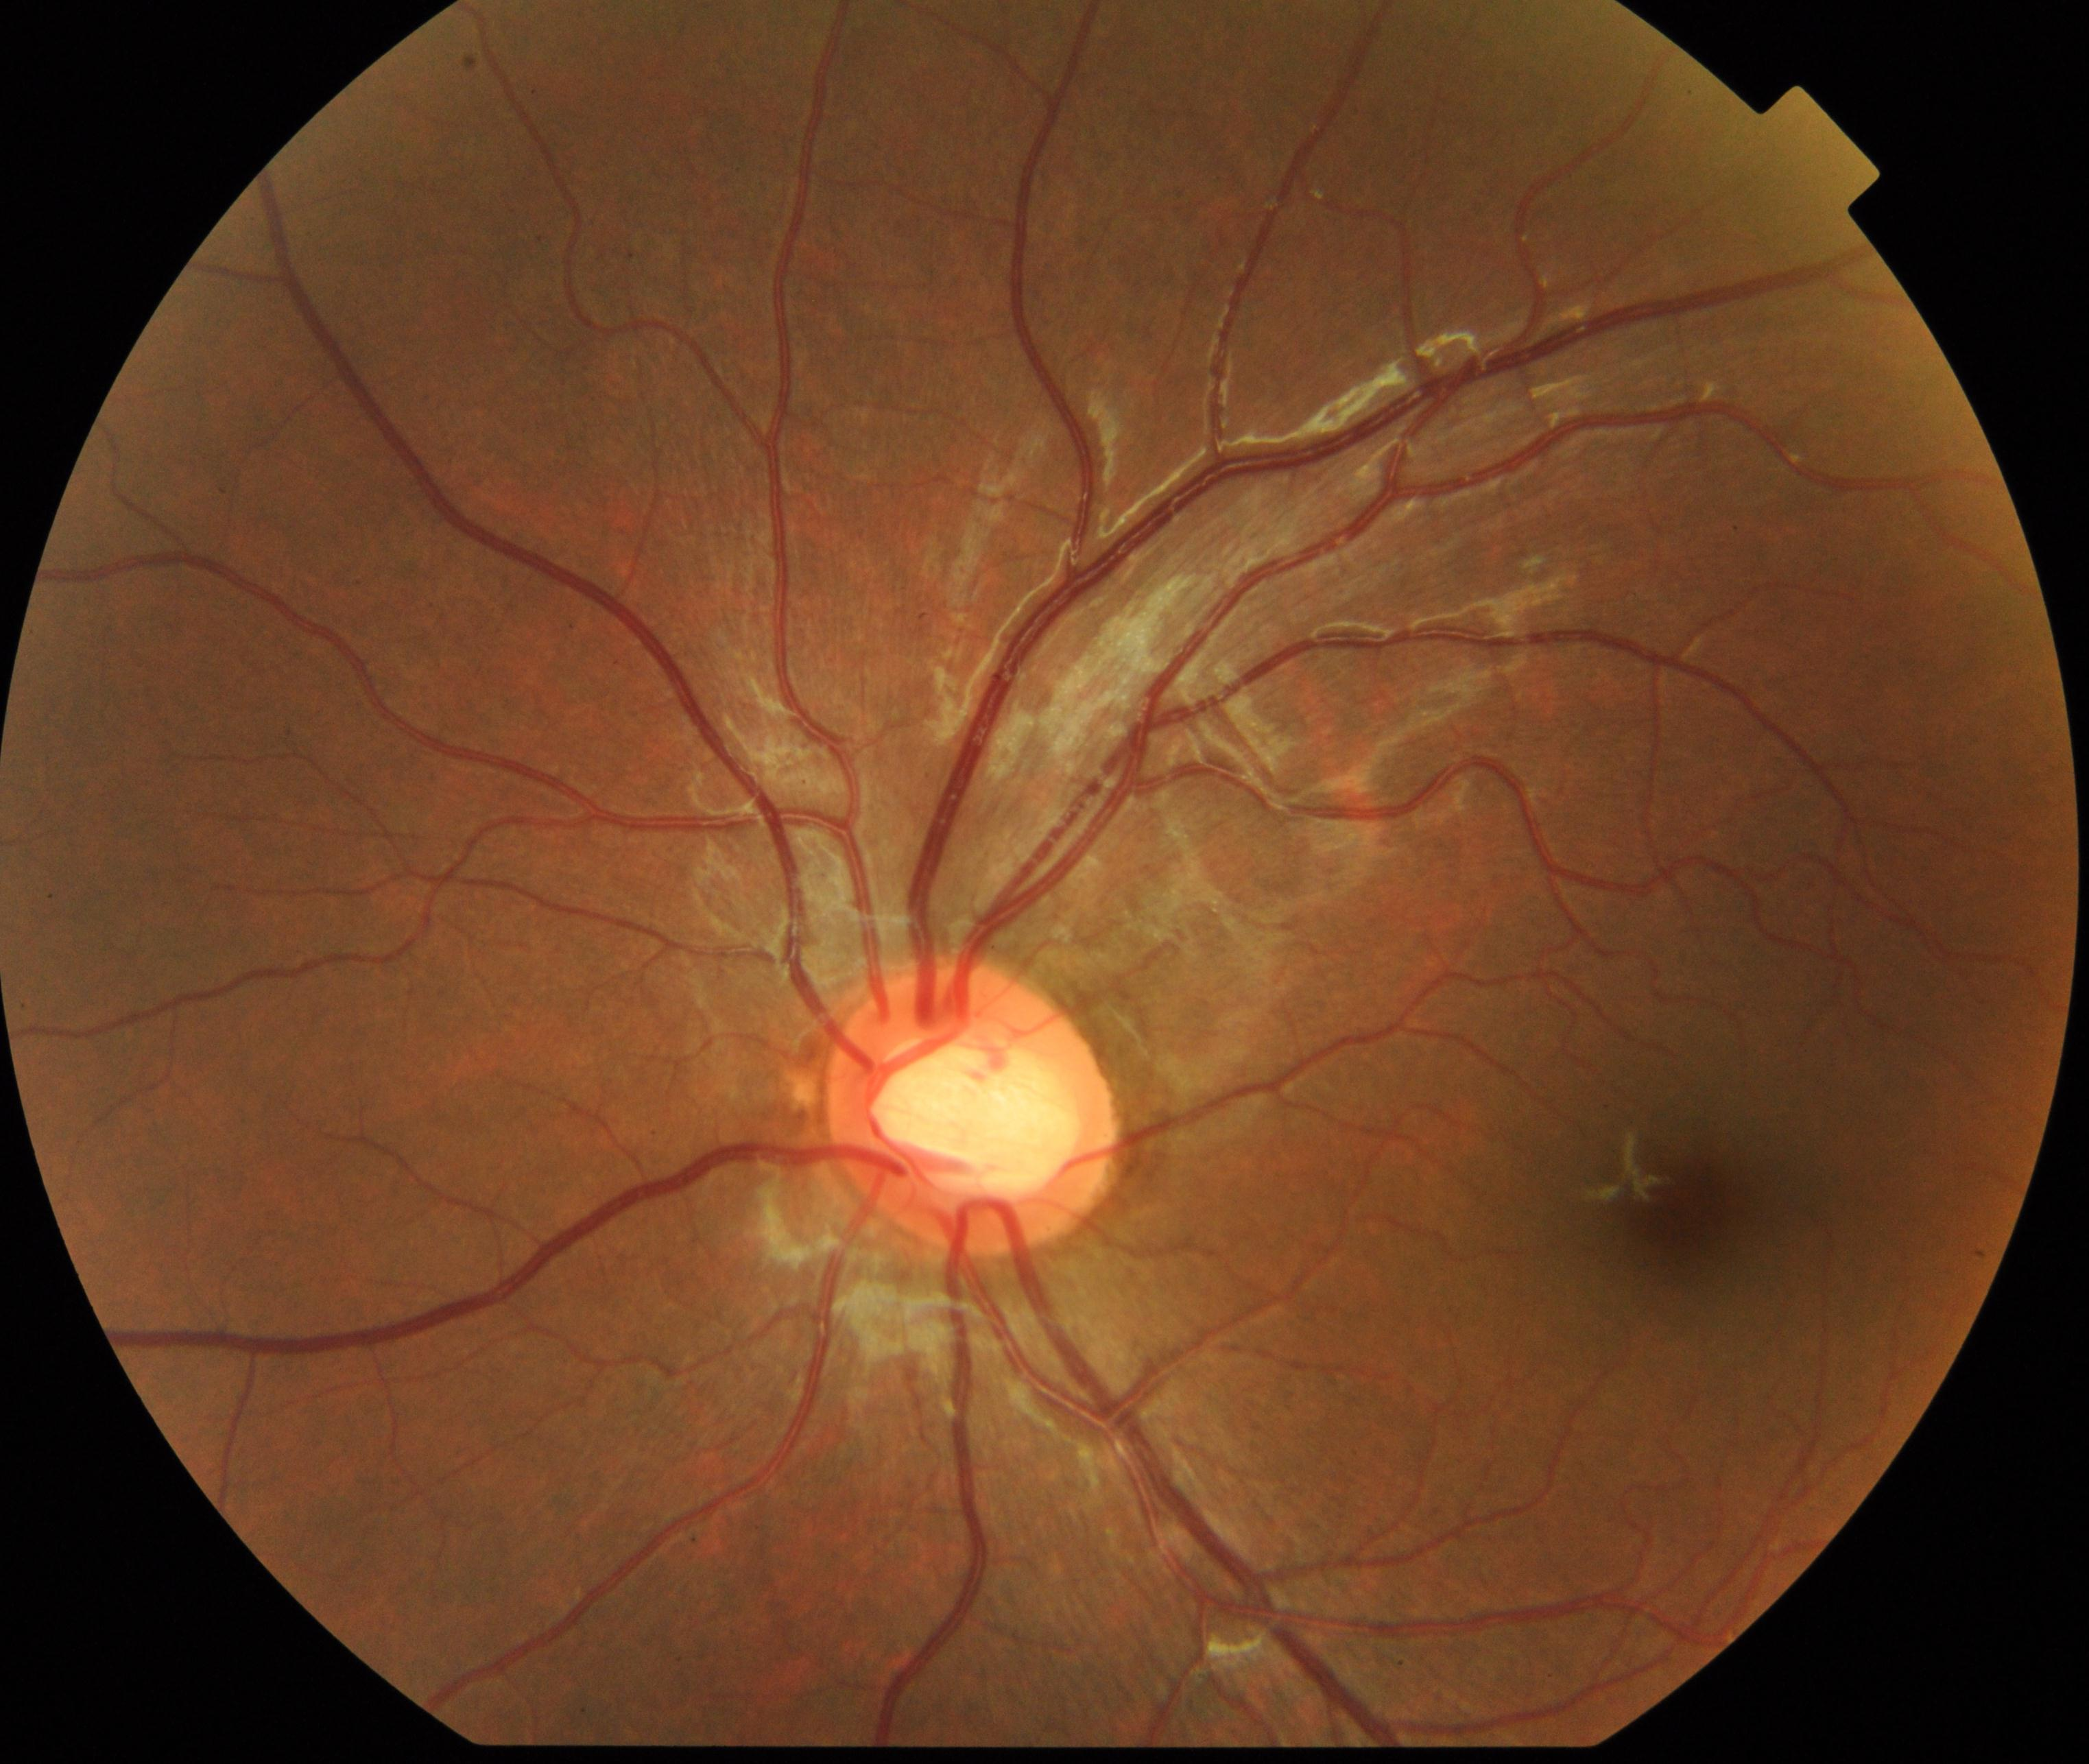Glaucoma section-1: (891, 1052, 1067, 1190)
Glaucoma section-2: (822, 966, 1123, 1272)
